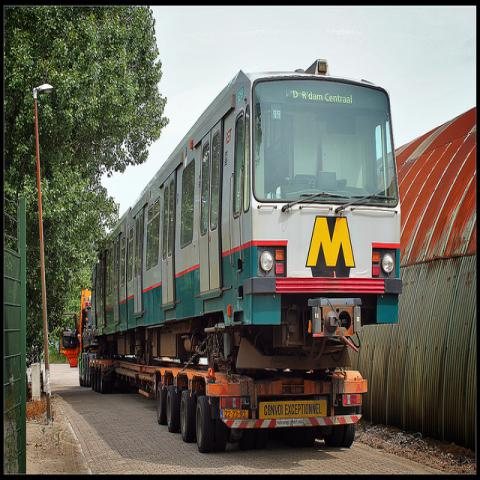truck: (58, 288, 370, 453)
